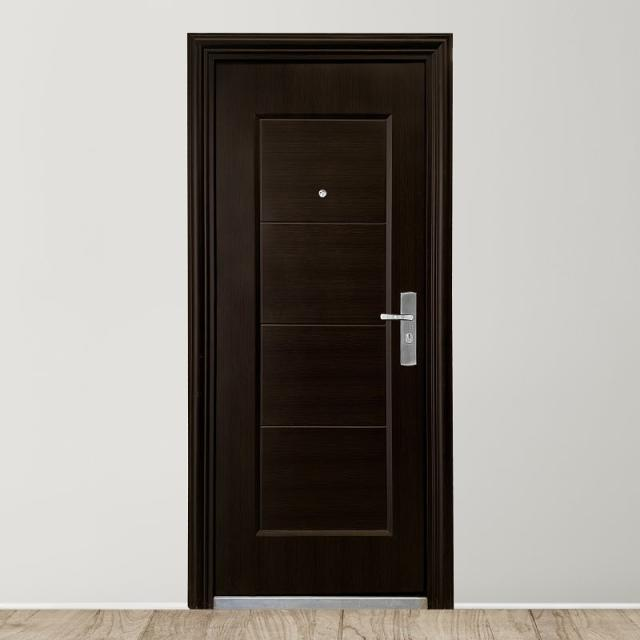door: (188, 33, 451, 609)
